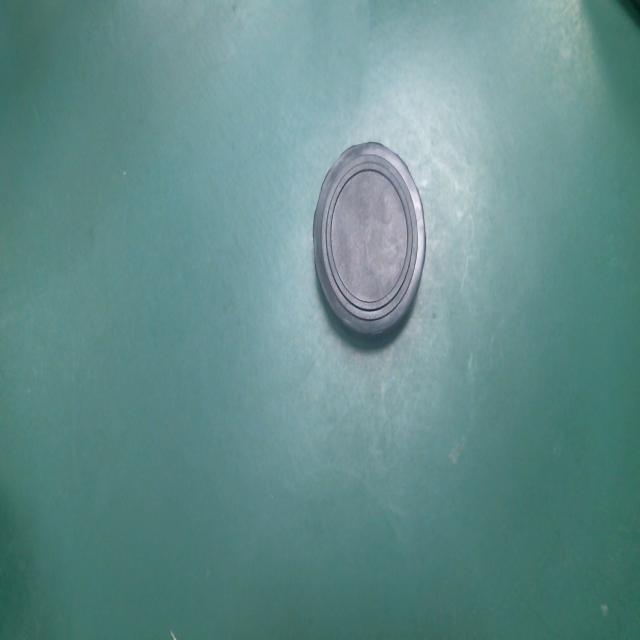cover: (311, 142, 428, 350)
